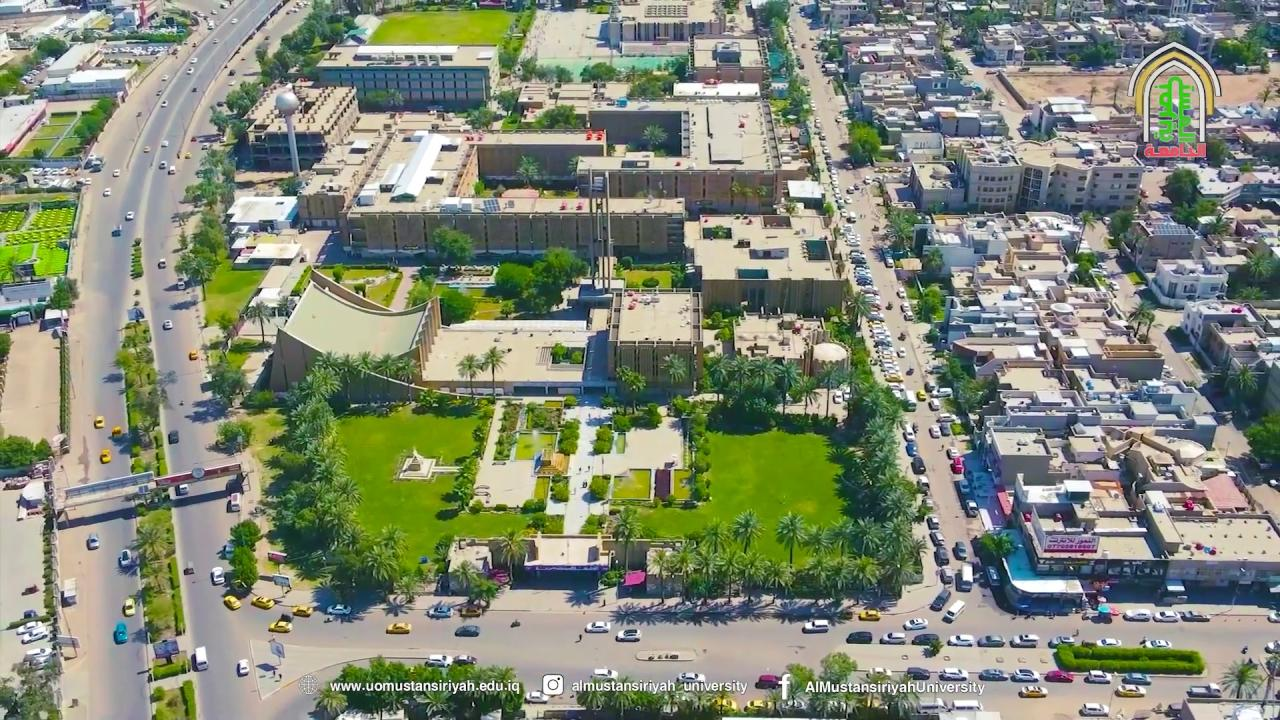car: (153, 638, 179, 658), (946, 630, 974, 648), (1122, 606, 1151, 623), (980, 667, 1010, 683), (1187, 684, 1221, 698), (268, 614, 293, 633), (191, 646, 209, 671), (976, 635, 1010, 648), (931, 587, 951, 609), (945, 601, 967, 621), (1010, 633, 1039, 648), (937, 668, 968, 682), (1115, 684, 1146, 698), (1044, 669, 1074, 683), (424, 654, 452, 669), (427, 603, 452, 619), (986, 563, 1002, 588), (755, 675, 781, 690), (802, 618, 828, 633), (1018, 685, 1048, 698), (1080, 703, 1110, 716), (1085, 669, 1111, 684), (959, 563, 974, 589), (951, 700, 983, 712), (1179, 610, 1210, 622), (1121, 672, 1151, 684), (846, 631, 873, 644), (912, 633, 939, 646), (327, 603, 352, 617), (676, 672, 705, 684), (1012, 668, 1041, 680), (386, 621, 412, 634), (525, 690, 549, 704), (458, 604, 482, 618), (616, 629, 641, 642), (119, 549, 137, 567), (906, 667, 929, 681), (251, 596, 274, 610), (113, 623, 128, 644), (454, 626, 480, 638), (903, 618, 927, 631), (585, 621, 610, 633), (1142, 638, 1172, 648), (452, 654, 477, 666), (965, 498, 980, 518), (224, 594, 242, 610), (1155, 610, 1179, 622), (592, 669, 618, 680), (940, 565, 955, 584), (292, 604, 313, 617), (930, 529, 946, 546), (210, 567, 225, 585), (944, 443, 959, 461), (122, 598, 136, 617), (858, 610, 880, 622), (1166, 703, 1183, 718), (267, 551, 288, 563), (904, 392, 918, 410), (228, 493, 241, 512), (1096, 637, 1120, 647), (236, 659, 249, 677), (918, 475, 932, 491), (86, 533, 99, 550), (903, 424, 916, 441), (954, 540, 966, 558), (1264, 640, 1279, 654), (958, 478, 972, 493), (922, 495, 935, 511), (926, 513, 941, 526), (50, 327, 66, 339), (952, 456, 964, 472), (914, 454, 925, 471), (930, 426, 944, 439), (167, 430, 179, 445), (937, 548, 947, 566), (176, 483, 189, 496), (100, 449, 112, 463), (1268, 610, 1280, 624), (832, 390, 844, 404), (908, 440, 920, 453), (223, 541, 235, 553), (93, 416, 104, 429), (182, 566, 195, 576), (162, 319, 173, 330), (188, 349, 199, 360), (157, 258, 166, 268), (125, 211, 134, 220), (102, 187, 110, 197), (161, 140, 168, 147)
fountain: (610, 468, 656, 503), (514, 430, 556, 463), (433, 277, 494, 299), (674, 466, 697, 504), (532, 471, 551, 503)
tree: (257, 367, 425, 609), (644, 508, 926, 607), (312, 655, 525, 718), (774, 651, 921, 719), (574, 674, 733, 719), (111, 344, 177, 447), (307, 349, 416, 404), (0, 657, 63, 718), (362, 523, 409, 596), (181, 147, 235, 210), (730, 508, 765, 599), (40, 514, 61, 643), (450, 559, 500, 611), (490, 526, 530, 586), (610, 505, 644, 572), (173, 250, 217, 301), (368, 351, 412, 402), (0, 434, 53, 475), (1242, 411, 1279, 465), (188, 210, 226, 262), (774, 511, 809, 566), (208, 360, 248, 408), (1217, 658, 1262, 700), (882, 204, 921, 252), (1224, 360, 1258, 413), (645, 548, 677, 604), (431, 225, 473, 267), (129, 524, 169, 566), (490, 261, 532, 300), (614, 364, 647, 413), (847, 119, 881, 166), (730, 508, 764, 554), (437, 287, 477, 326), (56, 333, 71, 437), (1164, 166, 1200, 209), (659, 351, 687, 406), (911, 275, 942, 324), (214, 419, 254, 456), (452, 456, 479, 510), (239, 297, 270, 344), (455, 353, 484, 403), (481, 345, 506, 402), (1102, 207, 1135, 250), (955, 374, 989, 415), (228, 545, 258, 591), (729, 179, 768, 214), (819, 651, 857, 686), (788, 373, 820, 414), (978, 529, 1015, 564), (783, 662, 815, 702), (1126, 299, 1155, 343), (313, 681, 347, 718), (533, 104, 580, 130), (1242, 249, 1274, 286), (403, 273, 435, 309), (228, 519, 261, 551), (0, 331, 13, 410), (1073, 209, 1095, 254), (1072, 249, 1098, 286), (214, 311, 236, 353), (642, 121, 668, 155), (557, 417, 580, 455), (49, 280, 72, 318), (514, 153, 539, 187), (611, 412, 631, 453), (1206, 135, 1230, 166), (465, 106, 493, 132), (592, 424, 613, 455), (923, 246, 944, 276), (548, 474, 569, 503), (128, 236, 142, 279), (587, 474, 610, 500), (644, 401, 662, 428), (331, 263, 346, 283)
